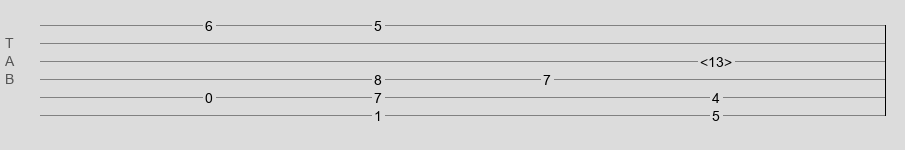0: (205, 90, 213, 100)
1: (374, 108, 382, 118)
4: (712, 90, 720, 100)
5: (374, 18, 382, 28), (712, 108, 720, 118)
6: (205, 18, 213, 28)
7: (374, 90, 382, 100), (543, 72, 551, 82)
8: (374, 72, 382, 82)
harmonic: (700, 54, 732, 64)
